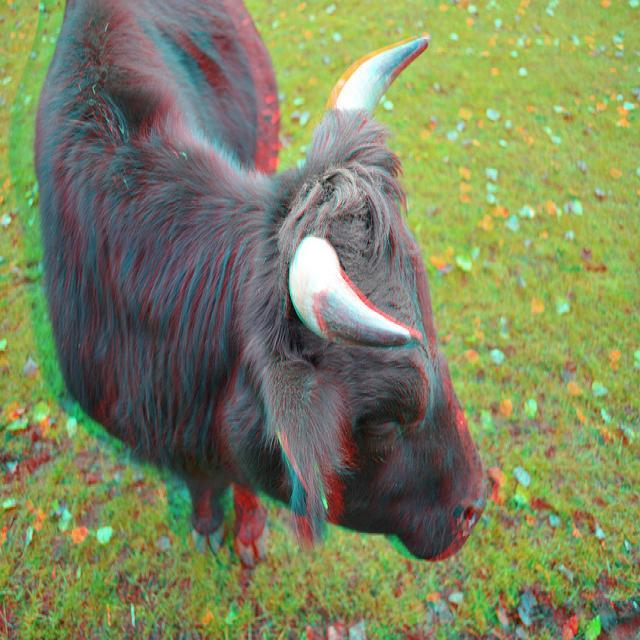cow: (28, 0, 492, 565)
